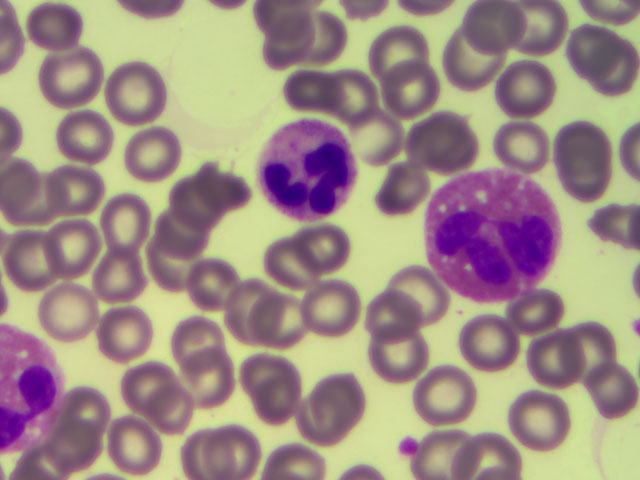Platelets: (393, 435, 420, 453)
RBC: (101, 414, 165, 480), (46, 414, 110, 480), (188, 414, 252, 480), (452, 414, 516, 480), (414, 414, 478, 480), (22, 1, 86, 66), (37, 43, 101, 108), (99, 54, 163, 119), (47, 95, 111, 160), (124, 116, 188, 181), (49, 152, 113, 217), (4, 167, 68, 232), (48, 207, 112, 272), (11, 228, 75, 293), (91, 187, 155, 252), (86, 241, 150, 306), (46, 274, 110, 339), (86, 295, 150, 360), (116, 353, 180, 418), (132, 375, 196, 440), (47, 367, 111, 432), (184, 348, 248, 413), (158, 300, 222, 365), (177, 254, 241, 319), (144, 232, 208, 297), (155, 187, 219, 252), (173, 157, 237, 222), (207, 273, 271, 338), (249, 293, 313, 358), (255, 232, 319, 297), (303, 210, 367, 275), (308, 279, 372, 344), (229, 349, 293, 414), (299, 372, 363, 437), (409, 358, 473, 423), (356, 316, 420, 381), (362, 267, 426, 332), (381, 247, 445, 312), (457, 310, 521, 375), (513, 282, 577, 347), (520, 333, 584, 398), (556, 309, 620, 374), (576, 354, 640, 419), (513, 389, 577, 454), (576, 194, 640, 259), (552, 148, 616, 213), (550, 106, 614, 171), (502, 113, 566, 178), (495, 63, 559, 128), (435, 33, 499, 98), (455, 1, 519, 66), (359, 10, 423, 75), (395, 58, 459, 123), (425, 99, 489, 164), (373, 162, 437, 227), (357, 102, 421, 167), (325, 65, 389, 130), (283, 58, 347, 123), (287, 8, 351, 73), (256, 8, 320, 73), (556, 24, 620, 89), (576, 42, 640, 107), (511, 1, 575, 65)
WBC: (434, 162, 565, 309), (258, 117, 362, 218)
